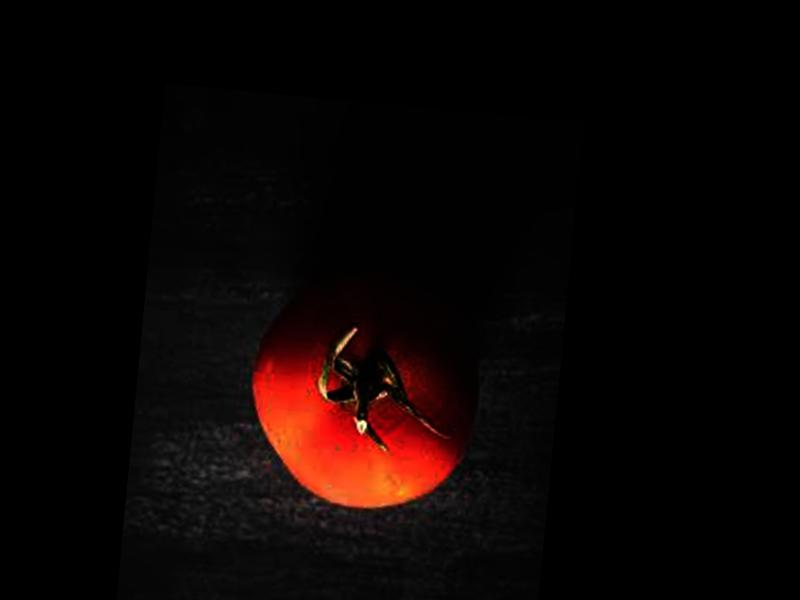Tomato: (241, 264, 485, 519)
